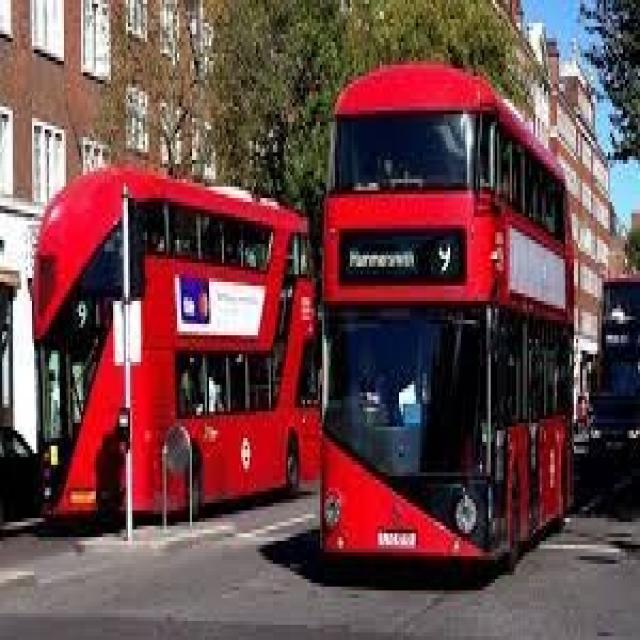bus: (307, 34, 585, 588), (39, 134, 329, 572)
